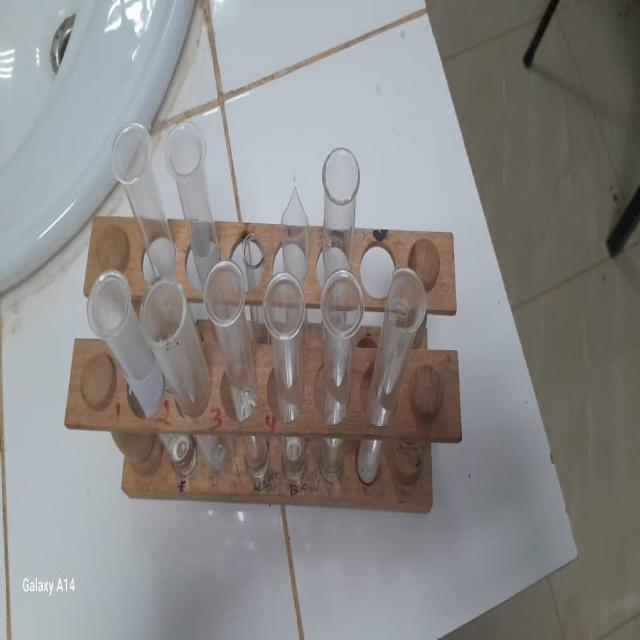Test Tube Racks: (63, 149, 476, 518)
